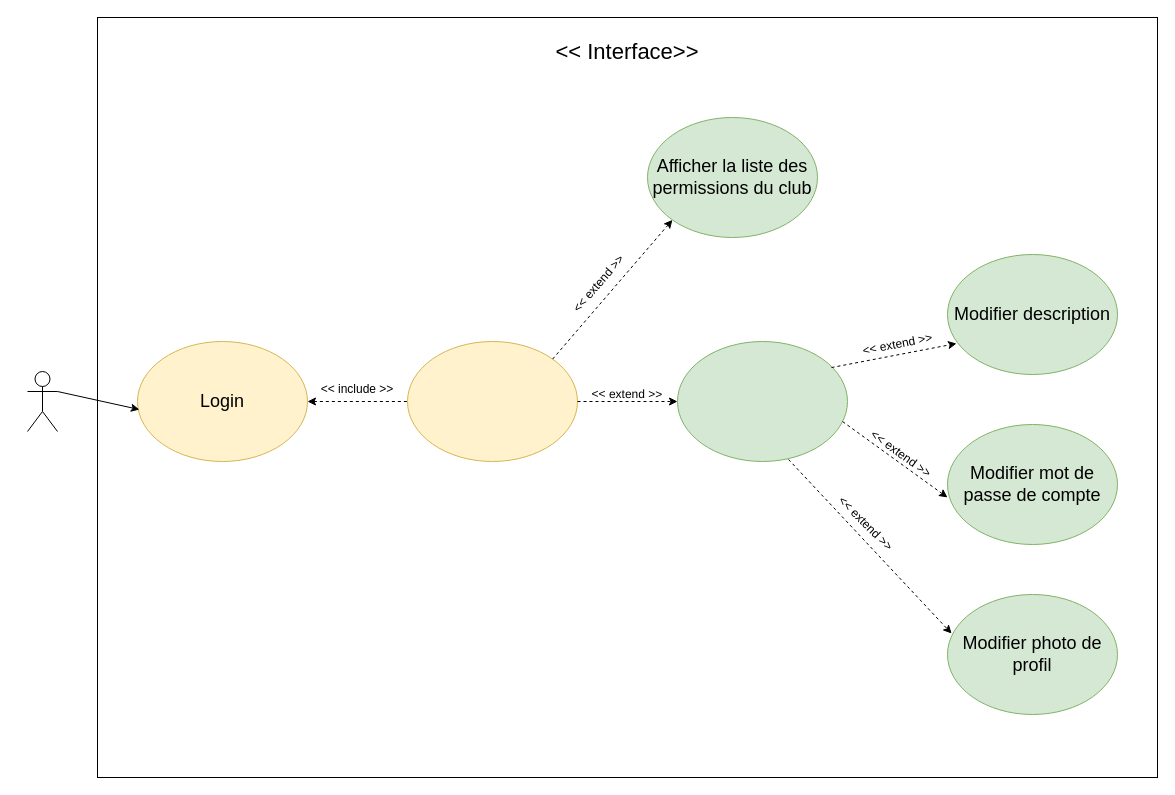
Some shapes in this 1175 by 795 pixel diagram are drawn without their labels. Each missing label, with the centre of its shape:
"Afficher réglages de compte" goes at pixel 762 401.
"Naviguer sur l'interface" goes at pixel 492 401.
"User-club" goes at pixel 42 401.
